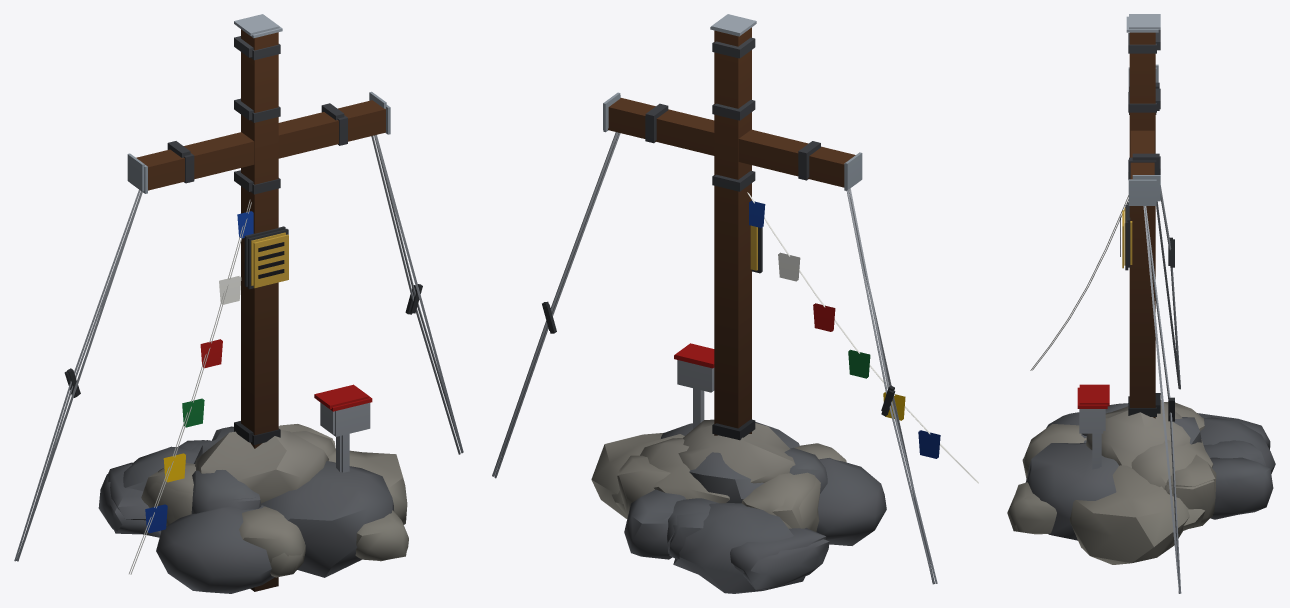
The model's file is Summit_Cross.fbx.
3 renders of one model, left to right at view 1: azimuth 30°, elevation 25°; view 2: azimuth 150°, elevation 25°; view 3: azimuth 270°, elevation 25°, orthographic. The views are drawn at different scales.
Parts seen in each view (by area): view 1: Summit_Cross_LOD0; view 2: Summit_Cross_LOD0; view 3: Summit_Cross_LOD0.
Part boxes in pixels (left/top/right/bottom): Summit_Cross_LOD0: left=14, top=14, right=463, bottom=593; Summit_Cross_LOD0: left=492, top=14, right=978, bottom=593; Summit_Cross_LOD0: left=1007, top=14, right=1275, bottom=593.
Size of what is drawn, in the model's own units: 5.25 by 6.26 by 2.88.
1 material, 1 textured.
